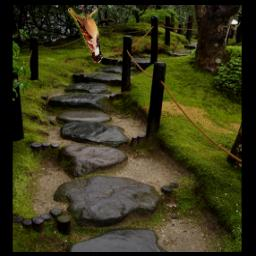Sparrow: (69, 9, 104, 64)
